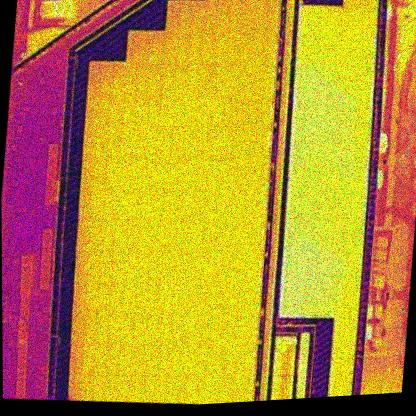Hotspot: (197, 251, 215, 285), (142, 342, 159, 378), (140, 187, 157, 222), (187, 219, 204, 253), (192, 158, 209, 191), (170, 124, 186, 159), (76, 219, 92, 252), (182, 125, 198, 158), (112, 63, 128, 96), (140, 31, 156, 64), (229, 190, 244, 225), (173, 94, 188, 128), (86, 93, 101, 126), (160, 94, 175, 127)
Normal: (210, 250, 228, 285), (203, 187, 220, 223), (118, 341, 135, 377), (95, 311, 112, 347), (222, 250, 239, 285), (144, 312, 161, 347), (169, 312, 186, 347), (189, 189, 207, 222), (233, 95, 251, 128), (156, 312, 174, 345), (123, 249, 140, 283), (82, 311, 99, 345), (194, 313, 211, 347), (173, 249, 189, 285), (231, 126, 247, 162), (195, 124, 211, 160), (98, 249, 115, 282), (132, 125, 149, 158), (157, 125, 174, 158), (235, 63, 252, 96), (164, 32, 181, 65), (189, 32, 206, 65), (201, 32, 218, 65), (251, 3, 268, 36), (81, 343, 98, 376), (119, 313, 136, 346), (161, 250, 177, 285), (151, 217, 167, 252), (116, 186, 132, 221), (91, 186, 107, 221), (215, 188, 231, 223), (107, 123, 123, 158), (187, 63, 203, 98), (127, 31, 143, 66), (106, 342, 122, 377), (132, 312, 148, 347), (98, 280, 114, 314), (122, 280, 138, 314), (134, 281, 150, 315), (234, 283, 250, 317), (196, 283, 213, 315), (149, 250, 165, 284), (136, 250, 152, 284), (101, 218, 117, 252), (163, 219, 179, 253), (201, 221, 218, 253), (128, 187, 144, 221), (209, 94, 226, 126), (162, 62, 178, 96), (212, 63, 228, 97), (249, 34, 266, 66), (214, 31, 230, 65), (167, 344, 183, 378), (107, 311, 123, 345), (235, 250, 250, 286), (208, 125, 223, 161), (135, 92, 150, 128), (73, 281, 89, 314), (147, 282, 163, 315), (209, 284, 225, 317), (75, 250, 91, 283), (112, 250, 128, 283), (126, 219, 142, 252), (113, 219, 129, 252), (153, 188, 169, 221), (117, 156, 133, 189), (155, 156, 171, 189), (143, 156, 159, 189), (95, 124, 111, 157), (120, 124, 136, 157), (219, 127, 235, 160), (97, 93, 113, 126), (109, 93, 125, 126), (147, 94, 163, 127), (185, 95, 201, 128), (122, 93, 138, 126), (221, 95, 237, 128), (245, 96, 261, 129), (100, 63, 116, 96), (149, 63, 165, 96), (137, 62, 153, 95), (177, 32, 193, 65), (69, 343, 85, 376), (155, 344, 171, 377), (130, 343, 146, 376), (204, 345, 220, 378), (192, 344, 208, 377), (217, 345, 233, 378), (71, 312, 87, 345), (232, 314, 248, 347), (207, 314, 223, 347), (251, 190, 266, 225), (175, 63, 190, 98), (200, 62, 215, 97), (182, 312, 197, 347), (85, 281, 101, 313), (159, 282, 175, 314), (171, 282, 187, 314), (103, 188, 119, 220), (197, 96, 213, 128), (226, 32, 242, 64), (192, 2, 208, 34), (219, 315, 235, 347), (222, 284, 237, 318), (186, 251, 201, 285), (246, 252, 261, 286), (139, 219, 154, 253), (230, 346, 245, 380), (110, 281, 125, 314), (87, 250, 102, 283), (90, 218, 105, 251), (240, 190, 255, 223), (81, 156, 96, 189), (106, 156, 121, 189), (94, 155, 109, 188), (180, 157, 195, 190), (168, 157, 183, 190), (131, 156, 146, 189), (84, 125, 99, 158), (255, 129, 270, 162), (257, 96, 272, 129), (125, 62, 140, 95), (259, 65, 274, 98), (248, 63, 263, 96), (152, 31, 167, 64), (93, 344, 108, 377), (180, 343, 195, 376), (244, 127, 258, 162), (184, 282, 199, 314), (166, 189, 181, 221), (205, 158, 220, 190), (237, 34, 253, 64), (176, 219, 190, 253), (80, 186, 94, 220), (241, 2, 255, 36), (167, 2, 182, 33), (229, 3, 244, 34), (140, 375, 156, 404), (153, 375, 169, 404), (178, 189, 192, 222), (89, 62, 103, 95), (224, 63, 238, 96), (241, 346, 255, 379), (178, 375, 193, 405), (204, 3, 219, 33), (116, 375, 132, 403), (229, 162, 245, 190), (246, 283, 259, 317), (253, 162, 268, 191), (242, 161, 257, 190), (215, 222, 229, 253), (146, 126, 160, 157), (261, 35, 275, 66), (217, 2, 231, 33), (80, 374, 95, 402), (68, 374, 83, 402), (104, 374, 119, 402), (191, 375, 205, 405), (227, 223, 241, 253), (239, 223, 253, 253), (264, 5, 278, 35), (129, 374, 143, 403), (203, 375, 217, 404), (250, 222, 263, 253), (219, 159, 232, 190), (166, 376, 180, 404), (180, 3, 193, 33), (215, 376, 229, 403), (93, 374, 106, 402), (228, 377, 242, 403), (245, 317, 256, 347), (240, 377, 253, 402)
